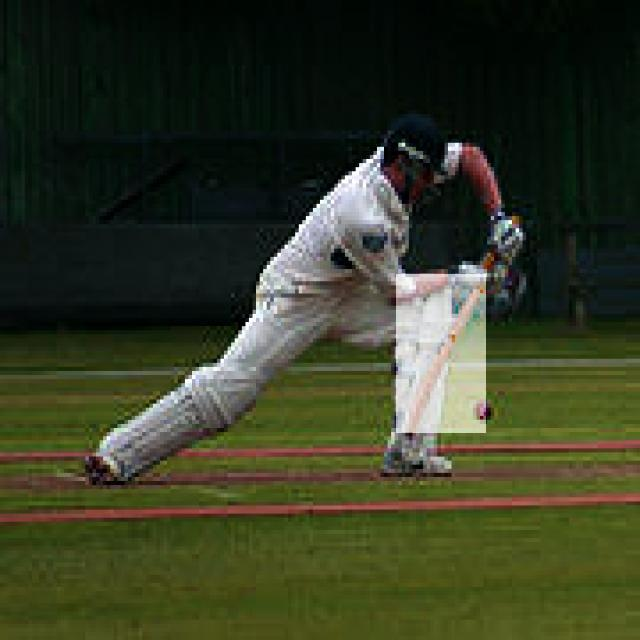bat: (399, 275, 488, 432)
